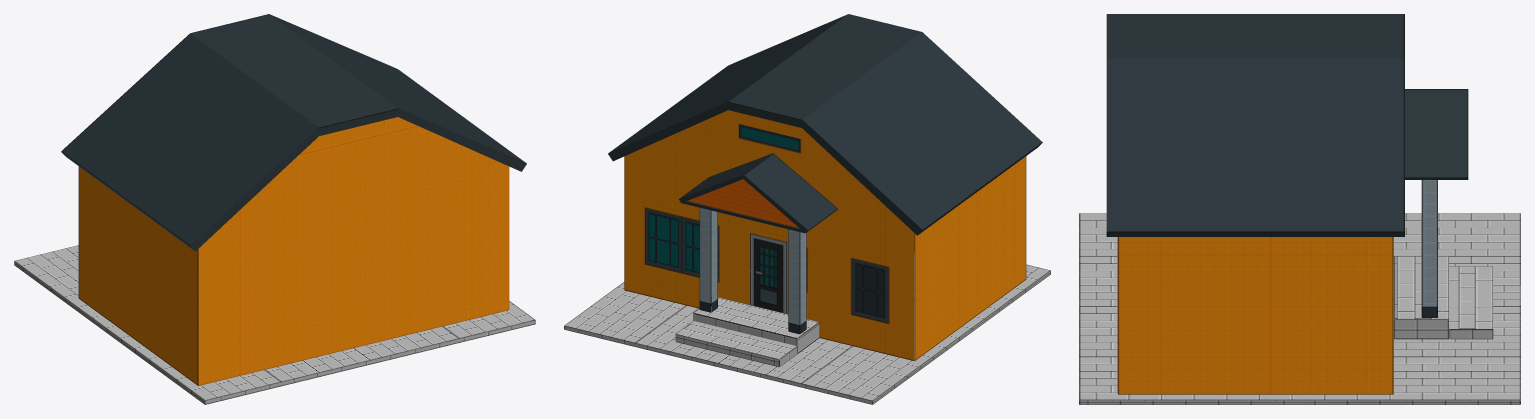
Rendered from longcow.fbx.
3 renders of one model, left to right at view 1: azimuth 30°, elevation 25°; view 2: azimuth 150°, elevation 25°; view 3: azimuth 270°, elevation 25°, orthographic. The views are drawn at different scales.
Visible parts, largest first — view 1: group, plane; view 2: group, plane, mesh_selection, steps_1, steps; view 3: group, plane, mesh_selection, steps_1, steps.
Boxes of the visible parts, box(x1,y1,x2,y2) form: group: box(61, 14, 526, 385); plane: box(14, 245, 535, 404); group: box(608, 14, 1042, 360); plane: box(564, 253, 1050, 404); mesh_selection: box(678, 153, 837, 233); steps_1: box(693, 297, 819, 353); steps: box(675, 321, 797, 366); group: box(1106, 14, 1437, 394); plane: box(1079, 213, 1520, 404); mesh_selection: box(1405, 89, 1468, 179); steps_1: box(1394, 256, 1448, 339); steps: box(1449, 266, 1493, 339).
Size of the model in its own units: 1020 by 688 by 1000.
Materials: 1 (1 with a texture image).
